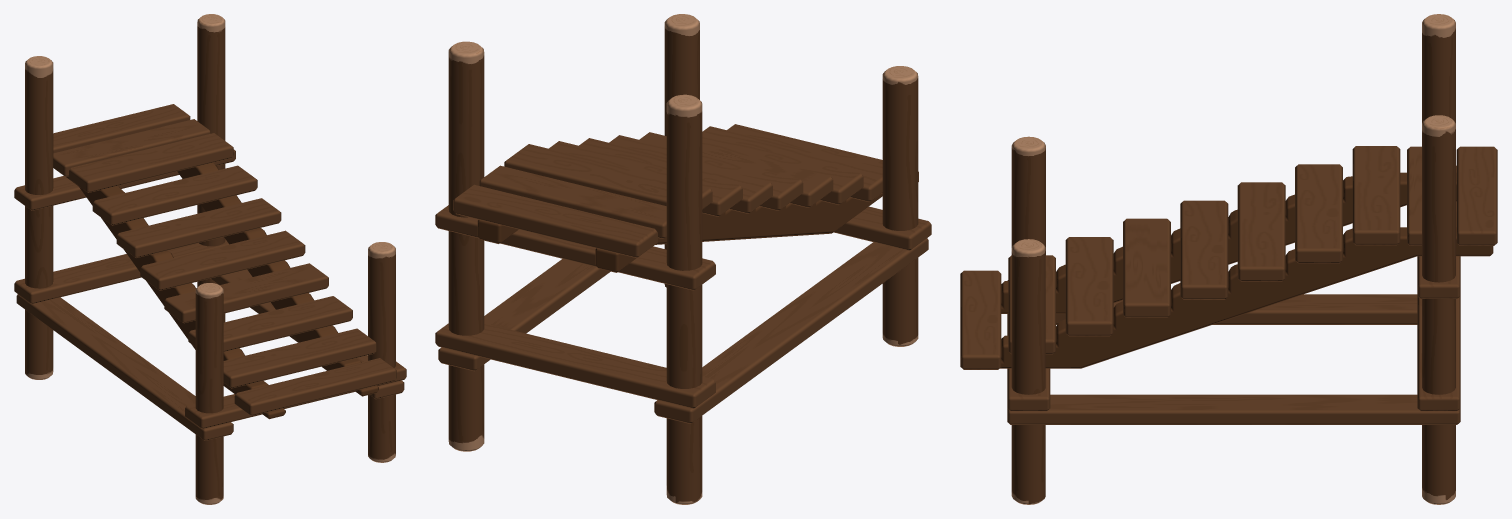
Rendered from M_Small_Stairs.fbx.
3 views of the same model, side by side, from view 1: azimuth 30°, elevation 25°; view 2: azimuth 150°, elevation 25°; view 3: azimuth 270°, elevation 25° (orthographic). The views are drawn at different scales.
Parts seen in each view (by area): view 1: M_Small_Stairs; view 2: M_Small_Stairs; view 3: M_Small_Stairs.
Part boxes in pixels (x1,y1,x2,y2): M_Small_Stairs: (14,14,406,504); M_Small_Stairs: (435,14,931,504); M_Small_Stairs: (960,14,1497,504).
Size of the model in its own units: 420 by 611 by 786.
